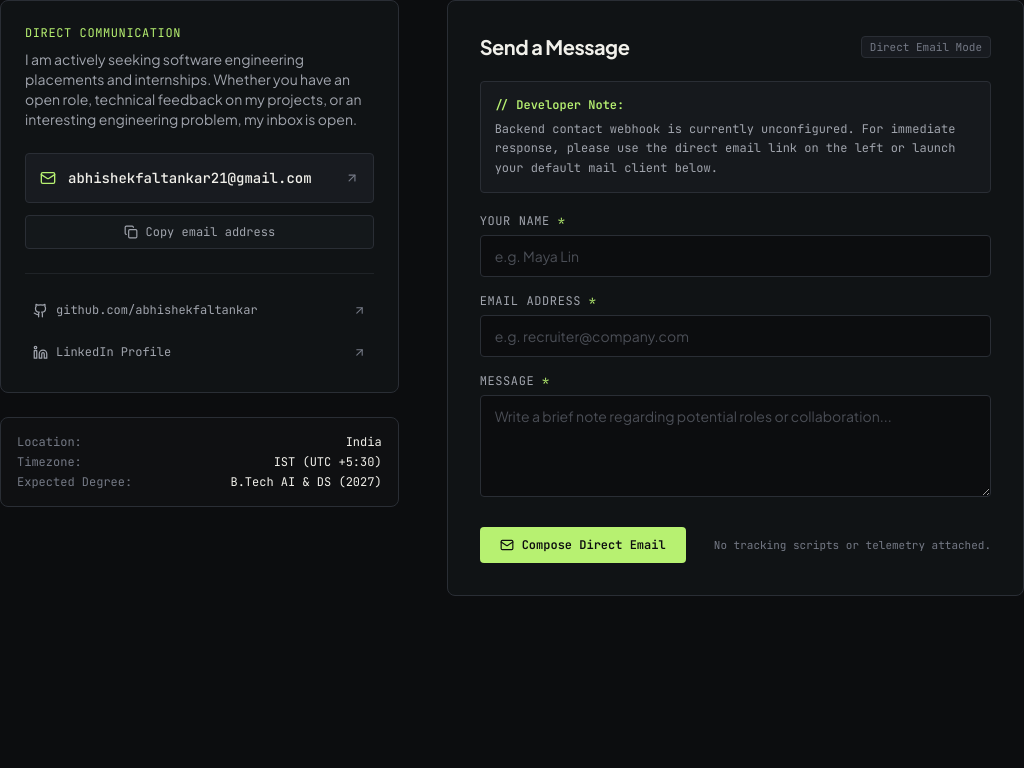
Test: UI Components › copies email to clipboard in ContactSection and provides feedback
Click the button "Copy email address" at (199, 232), box [25, 215, 374, 249]
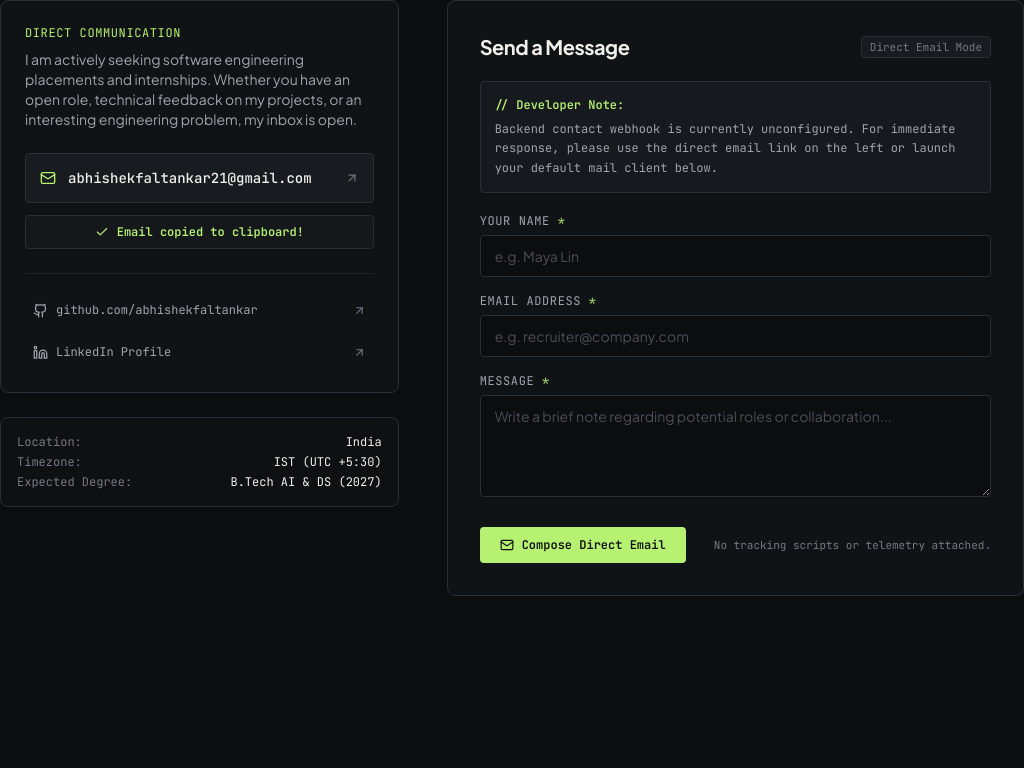
Expected: the text "Email copied to clipboard!" is shown, [117, 224, 304, 240]
